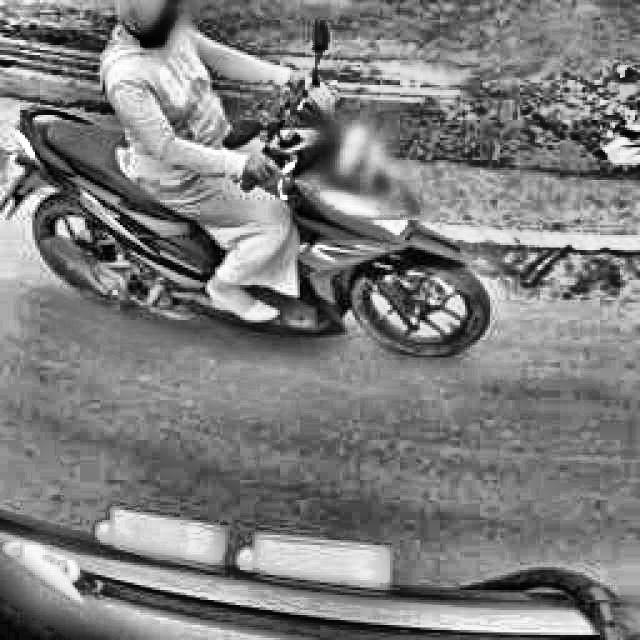motorcycle: (2, 10, 514, 378)
